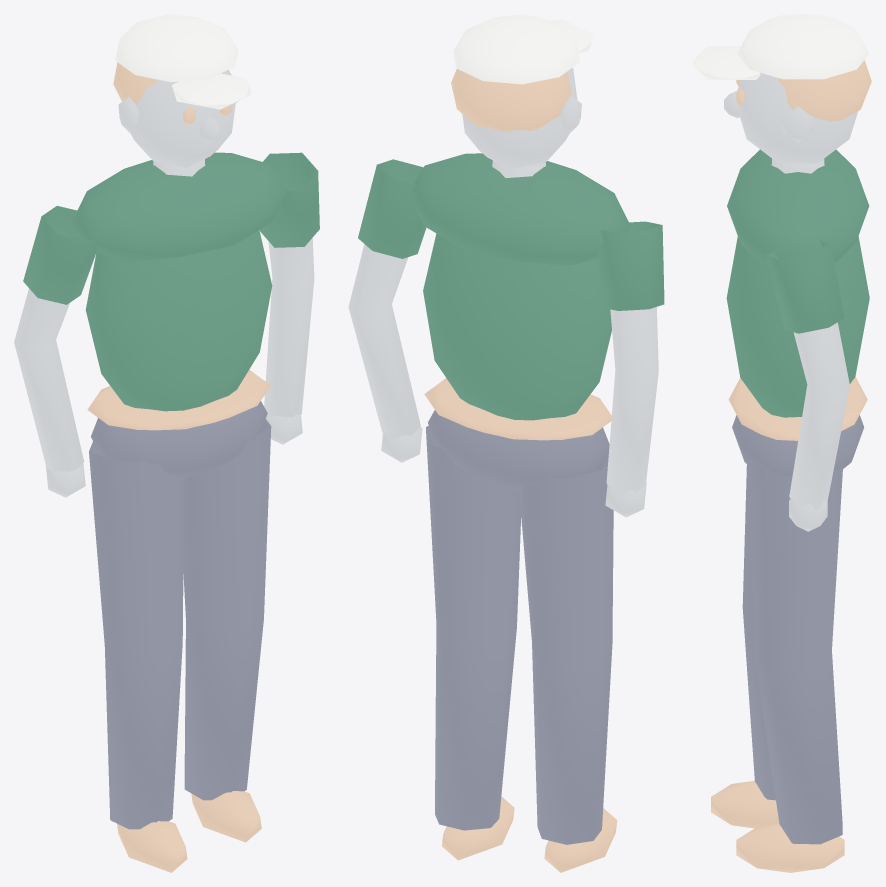
File: Blender_Spectator_1.glb
The picture shows the model from 3 angles, left to right: view 1: azimuth 30°, elevation 25°; view 2: azimuth 150°, elevation 25°; view 3: azimuth 270°, elevation 25°; orthographic projection. The views are drawn at different scales.
Visible parts, largest first — view 1: Blender_Spectator_1; view 2: Blender_Spectator_1; view 3: Blender_Spectator_1.
Part boxes in pixels (x1,y1,x2,y2): Blender_Spectator_1: (14,14,319,872); Blender_Spectator_1: (348,14,664,872); Blender_Spectator_1: (693,14,871,872).
Size of the model in its own units: 0.6676 by 1.8 by 0.3516.
